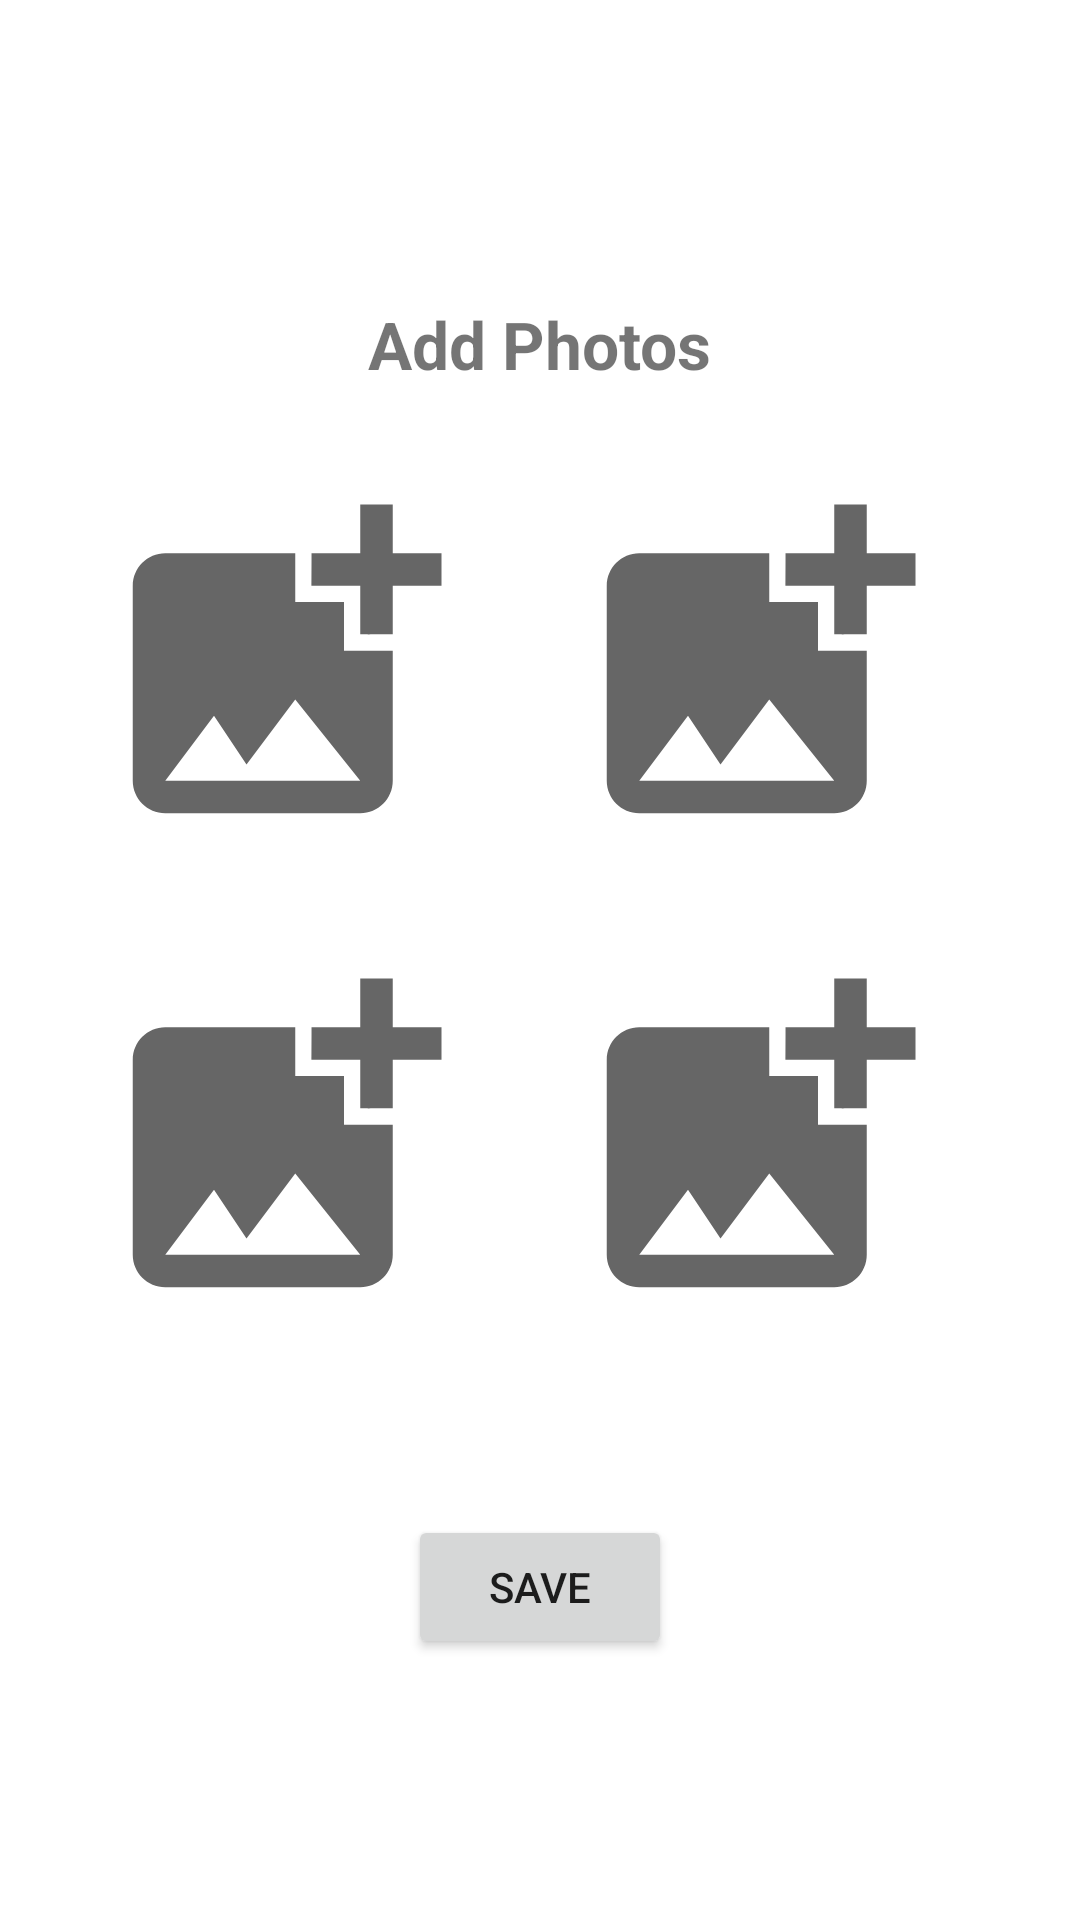

Where to tap for icons on this 1080x1920 app screen, as (x=x, y=y):
add photo alternate: (x=287, y=659), (x=761, y=659), (x=287, y=1133), (x=761, y=1133)
